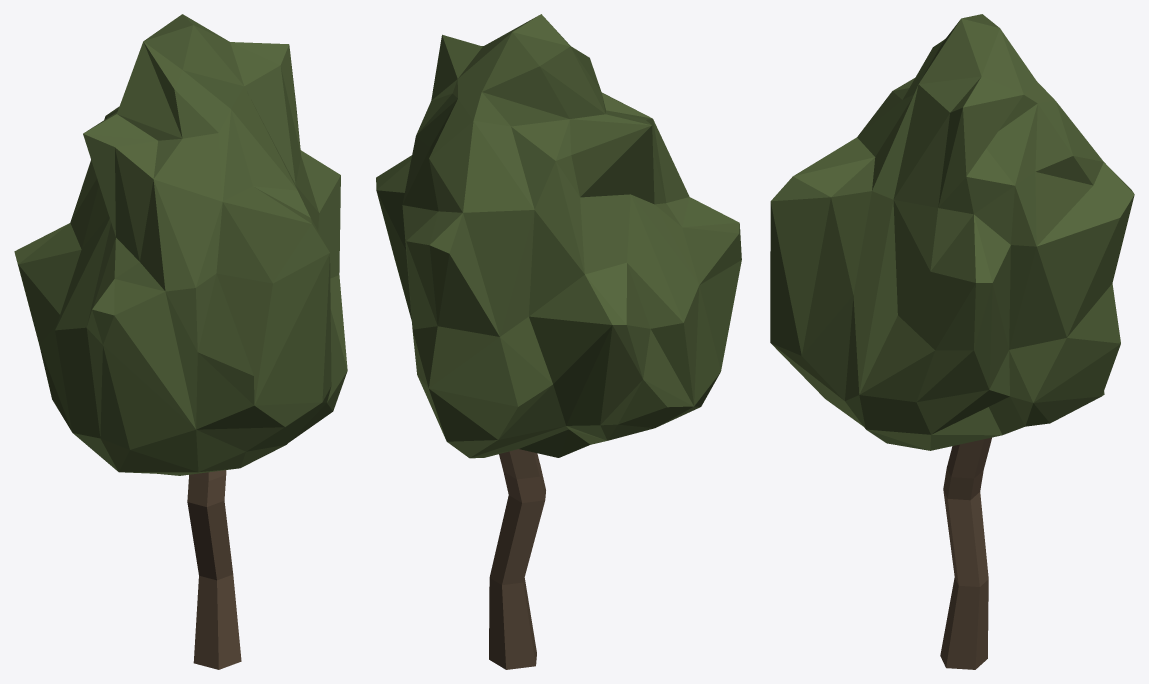
The model's file is Tree_070.fbx.
3 views of the same model, side by side, from view 1: azimuth 30°, elevation 25°; view 2: azimuth 150°, elevation 25°; view 3: azimuth 270°, elevation 25° (orthographic). The views are drawn at different scales.
Visible parts, largest first — view 1: Tree_070; view 2: Tree_070; view 3: Tree_070.
Boxes of the visible parts, x1,y1,x2,y2 form: Tree_070: (14, 14, 347, 669); Tree_070: (376, 14, 741, 669); Tree_070: (770, 14, 1134, 669).
Bounding box in the file's own units: 0.689 × 1.39 × 0.7292.
1 material, 1 textured.
